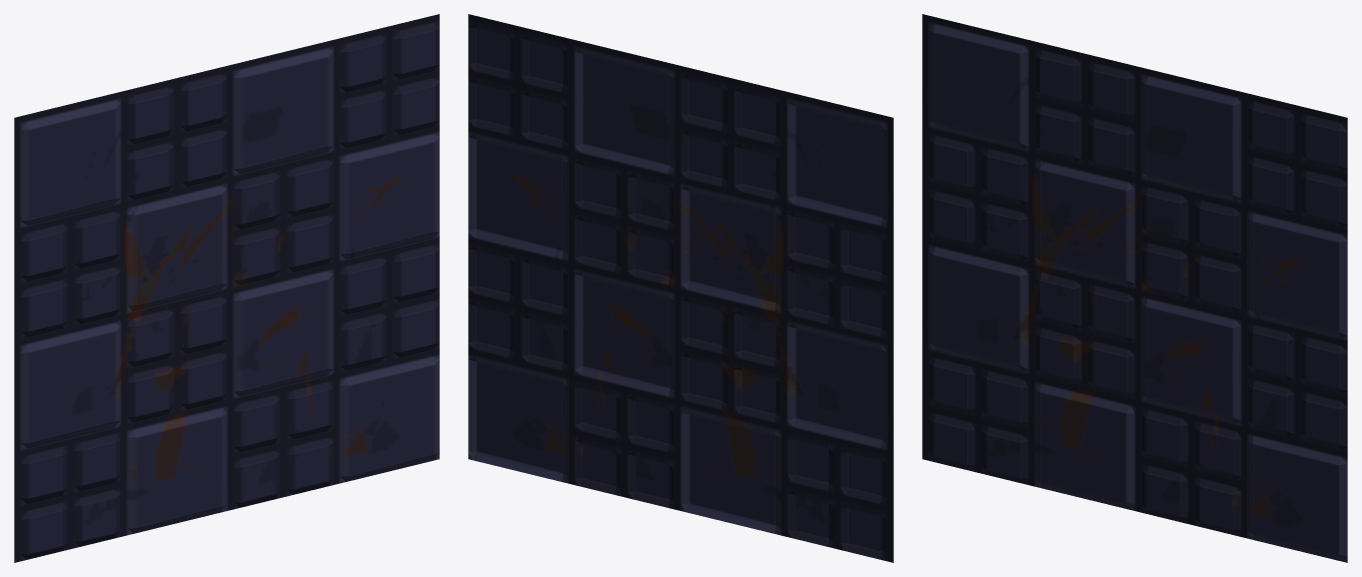
File: med1_7.fbx
The picture shows the model from 3 angles, left to right: view 1: azimuth 30°, elevation 25°; view 2: azimuth 150°, elevation 25°; view 3: azimuth 330°, elevation 25°; orthographic projection.
Parts seen in each view (by area): view 1: med1_7_mesh; view 2: med1_7_mesh; view 3: med1_7_mesh.
Boxes of the visible parts, x1,y1,x2,y2 form: med1_7_mesh: (14,14,439,562); med1_7_mesh: (468,14,893,562); med1_7_mesh: (922,14,1347,562).
Bounding box in the file's own units: 256 × 256 × 2.
